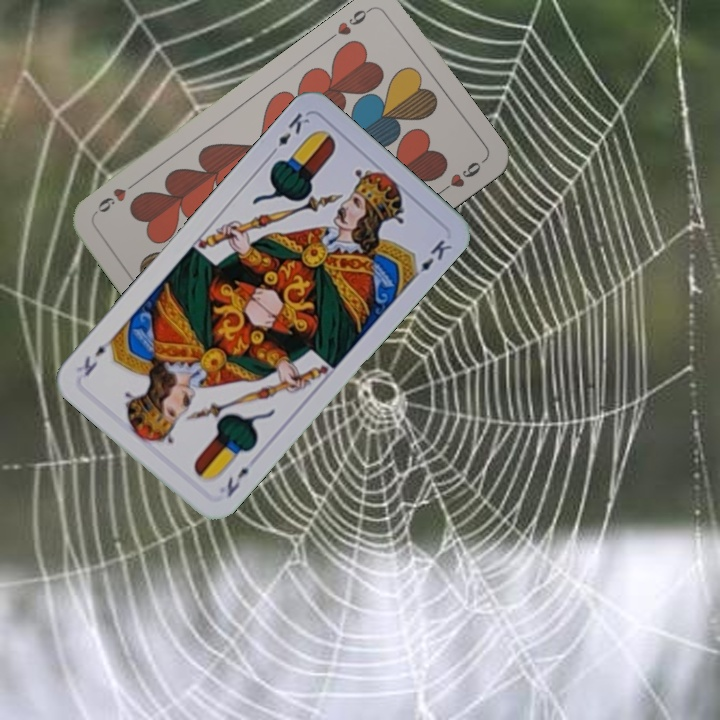EK: (265, 108, 313, 160), (222, 463, 252, 500)
H9: (324, 3, 375, 44)
